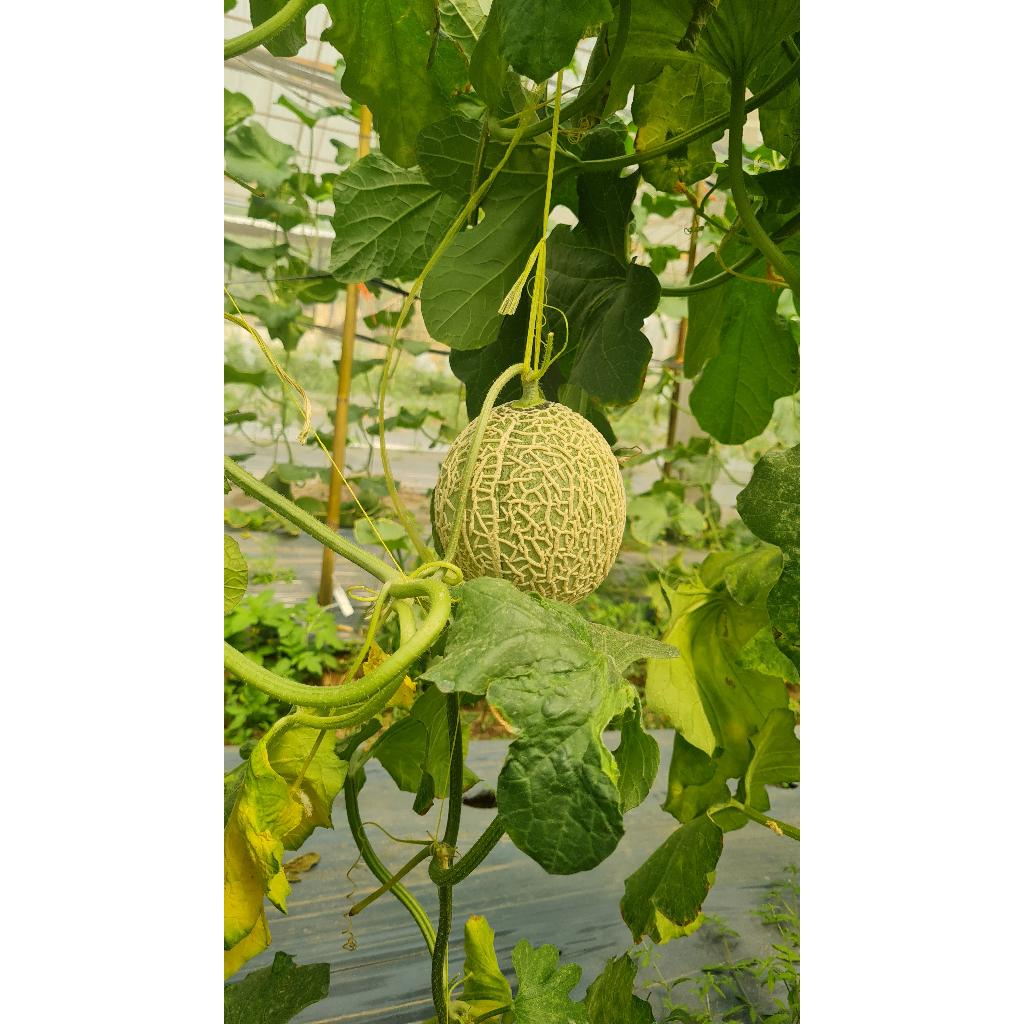melon: (454, 402, 626, 604), (434, 420, 476, 548)
